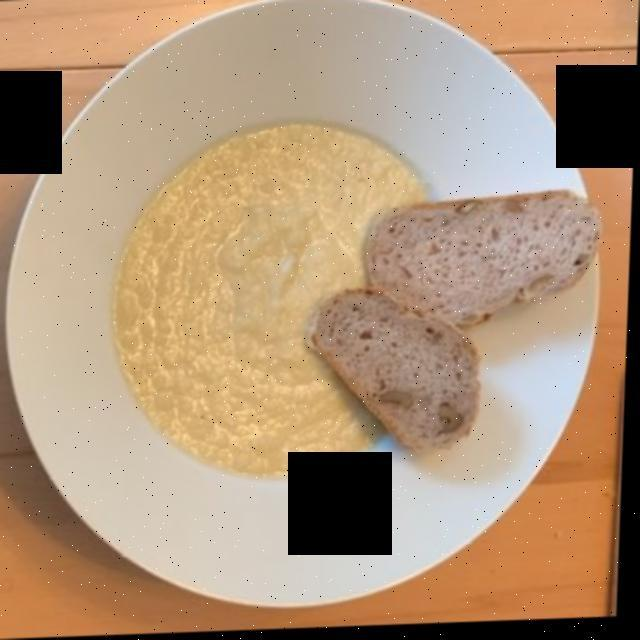bread: (306, 195, 600, 458)
soup: (120, 131, 416, 474)
